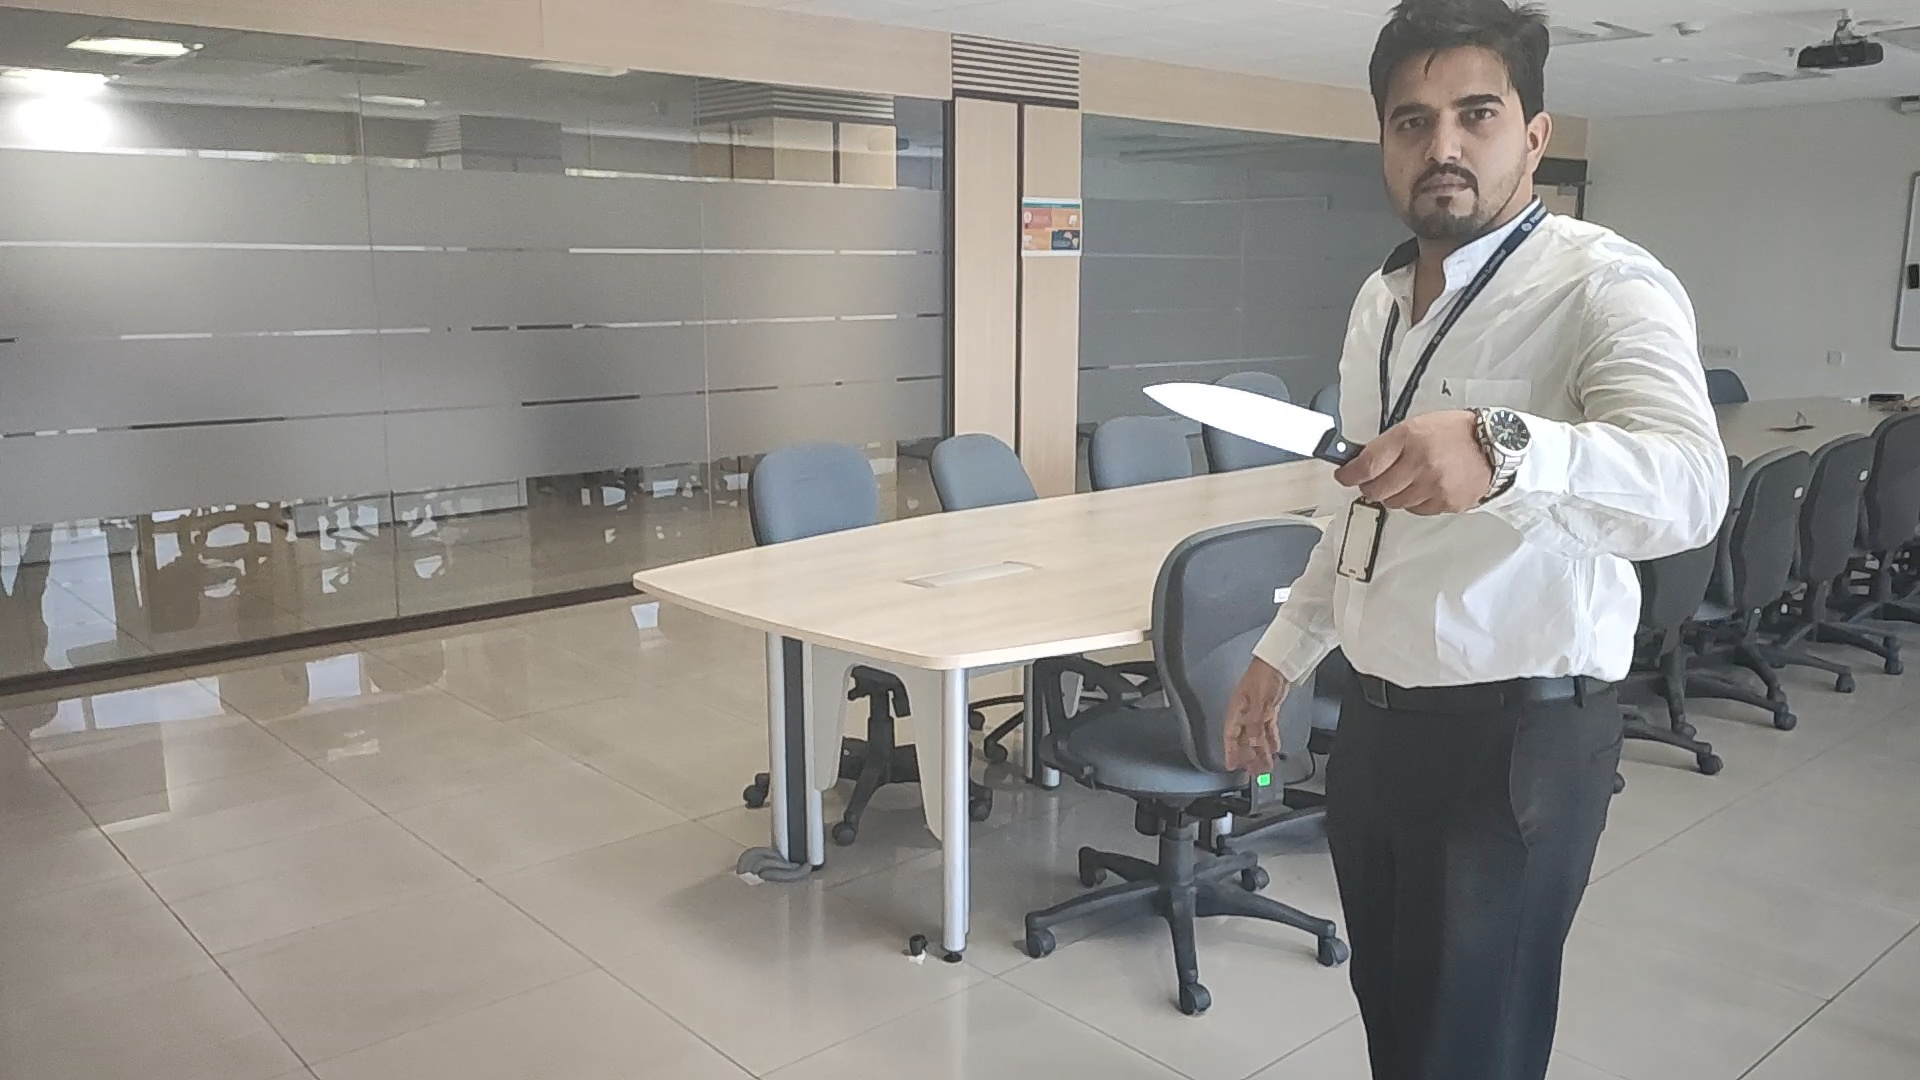knife: (1145, 376, 1358, 462)
